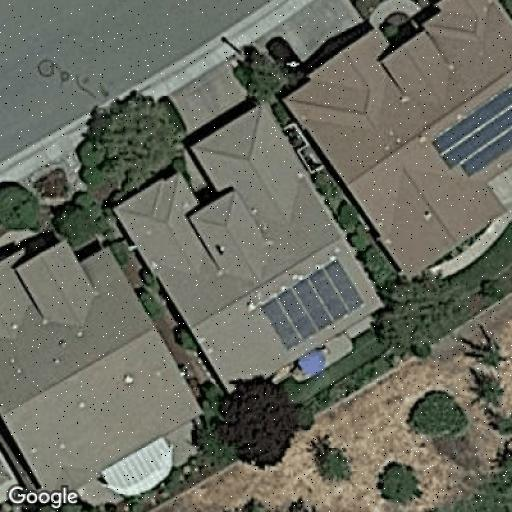solar-panel: (256, 256, 368, 352), (430, 86, 512, 178)
